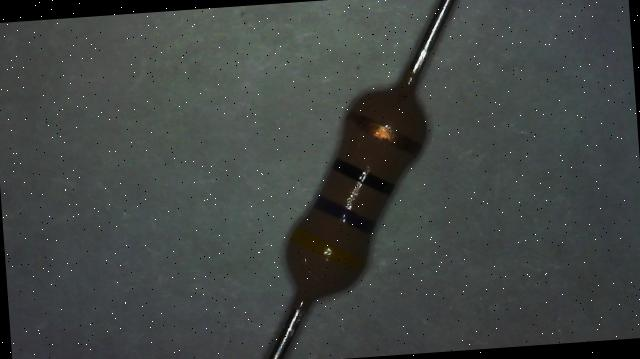black: (332, 154, 394, 198)
gold: (349, 106, 420, 158)
resistor: (259, 71, 463, 321)
violet: (312, 191, 376, 237)
yellow: (291, 223, 364, 275)
